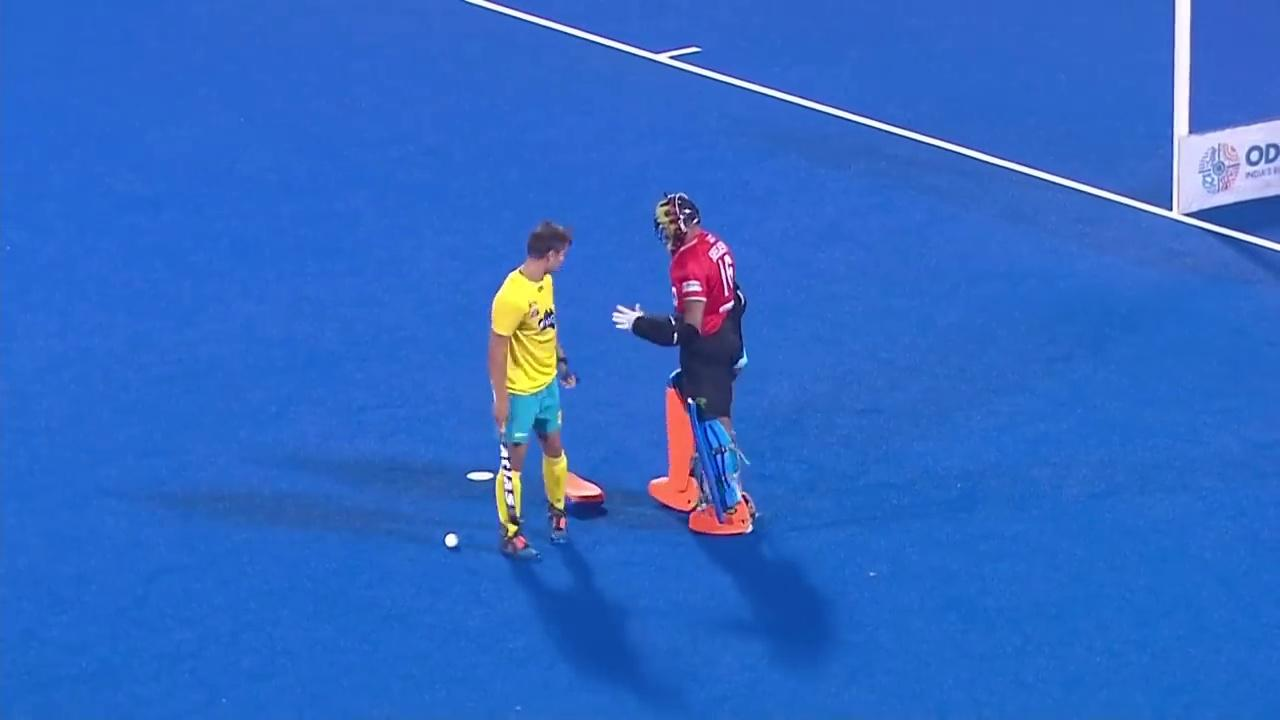ball: (437, 520, 468, 556)
